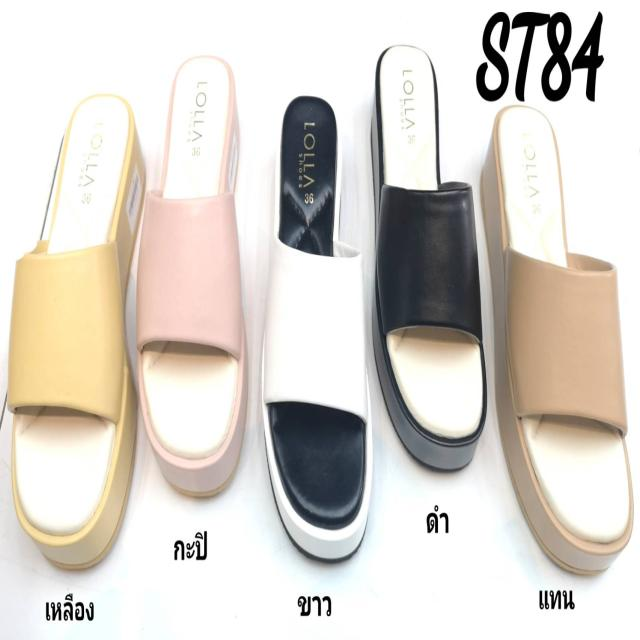black: (372, 44, 490, 468)
kapi: (139, 54, 245, 494)
tan: (491, 114, 635, 569)
white: (267, 94, 373, 568)
yellow: (8, 90, 138, 569)
